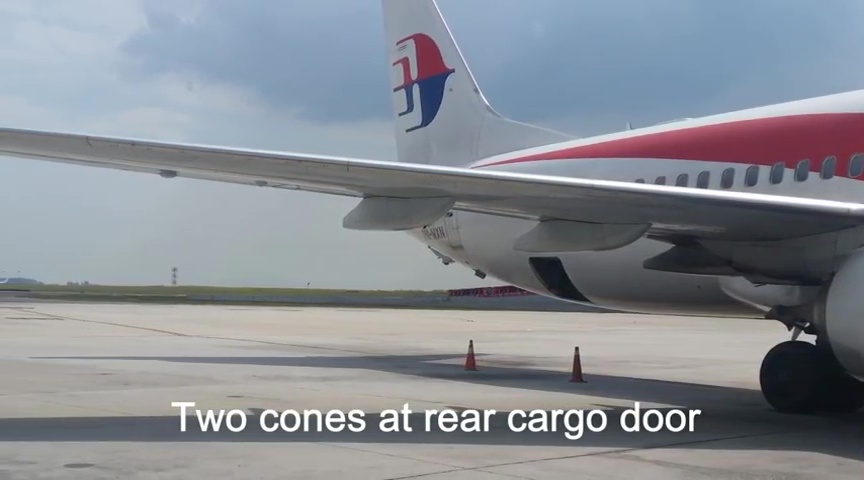safety_cone: (462, 338, 480, 373), (569, 346, 586, 383)
